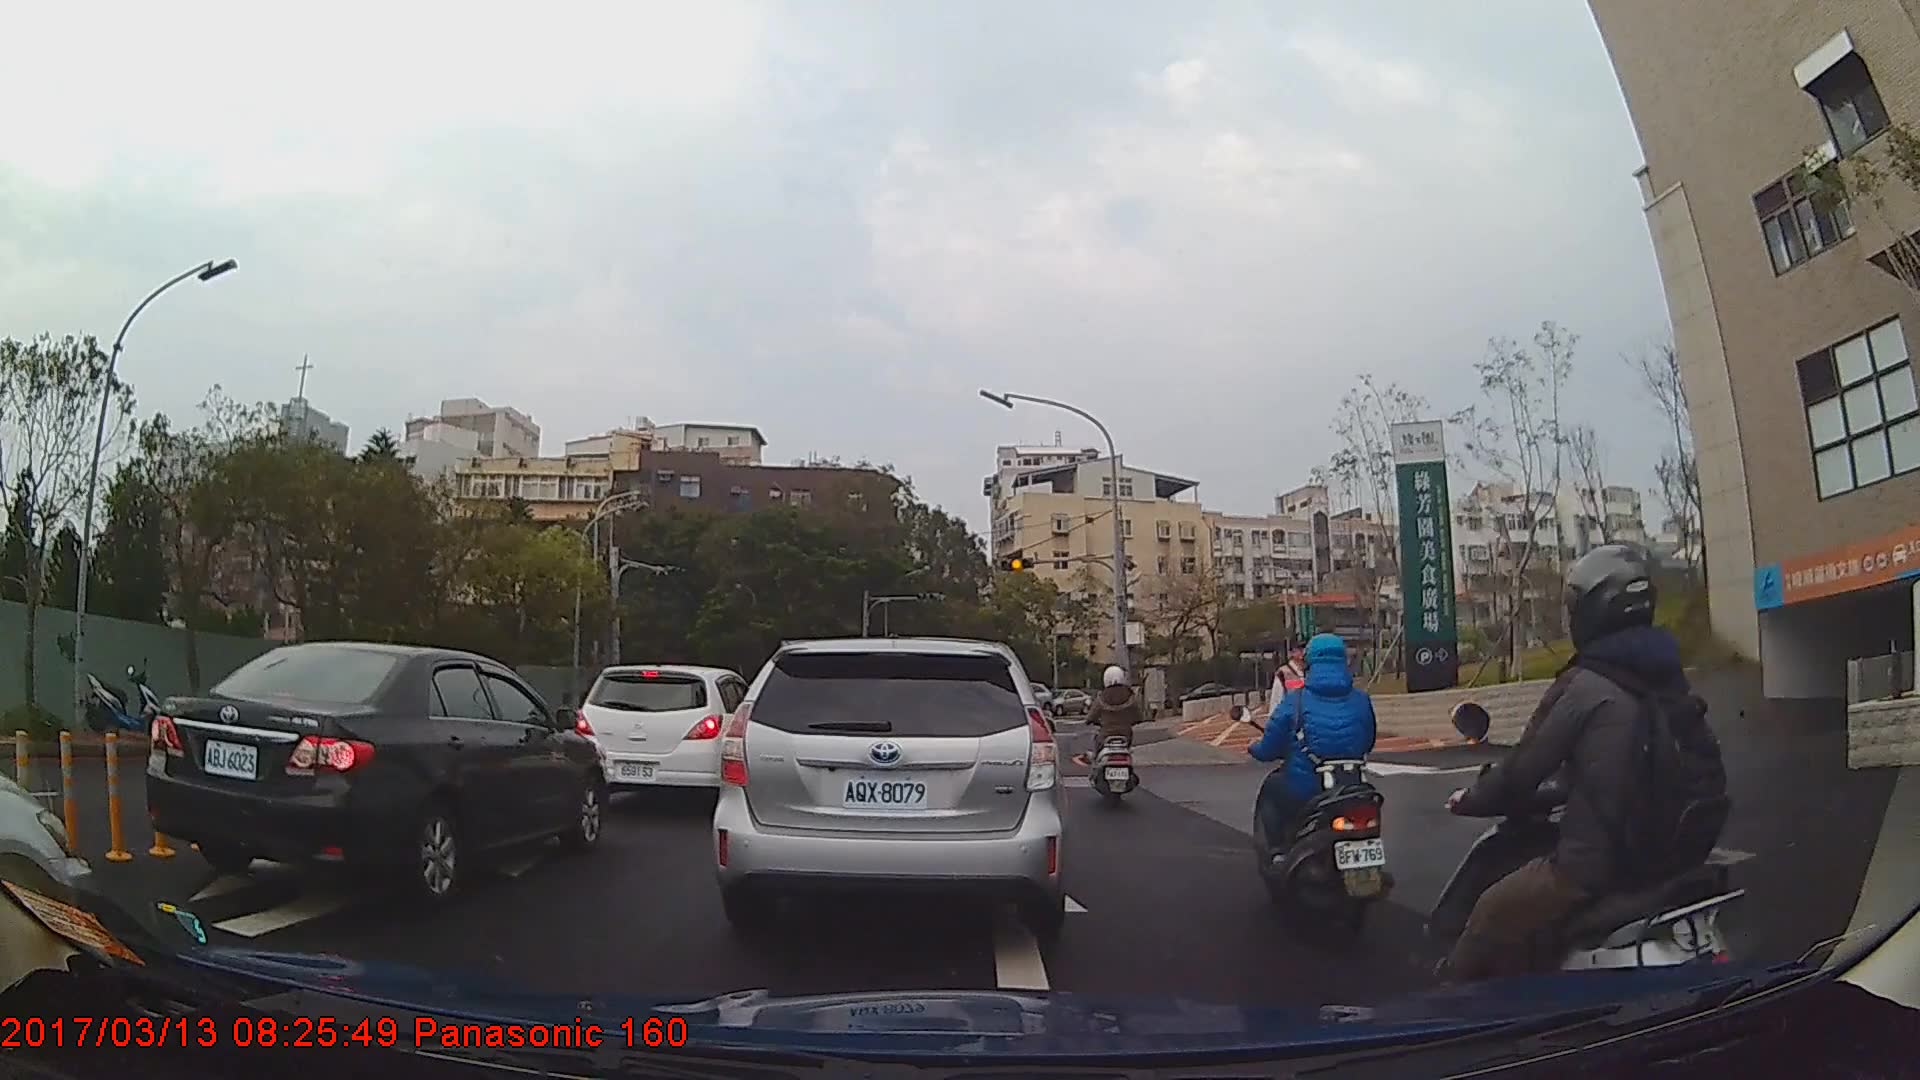rider: (1415, 544, 1746, 1068), (1246, 630, 1392, 934), (1087, 668, 1148, 812)
vehicle: (143, 641, 609, 907), (712, 634, 1066, 938), (569, 663, 761, 813), (1172, 679, 1237, 712), (1050, 687, 1090, 716)
